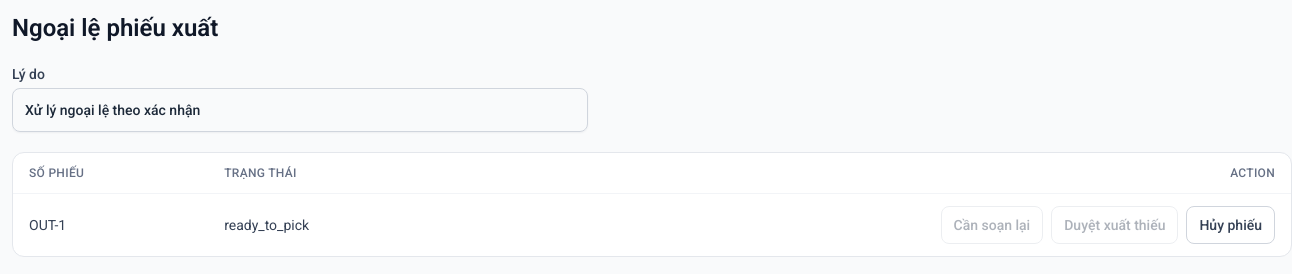
Test: cancels an unpicked document through an action API
Click the button "Hủy phiếu": (1231, 225) [1186, 206, 1275, 244]
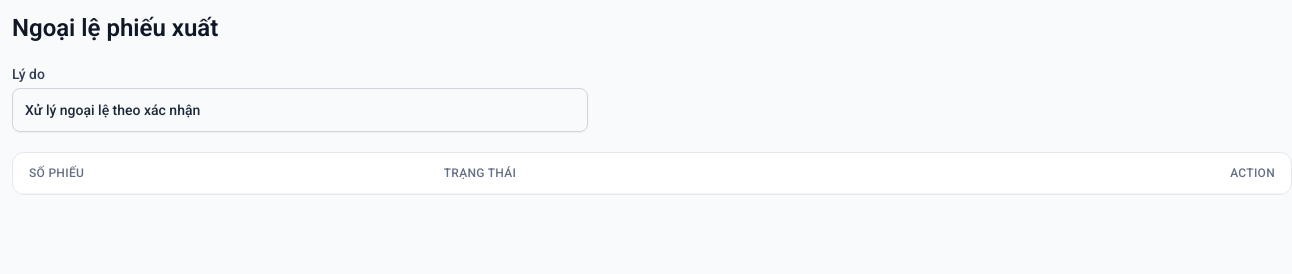
Now the text "OUT-1" is gone
